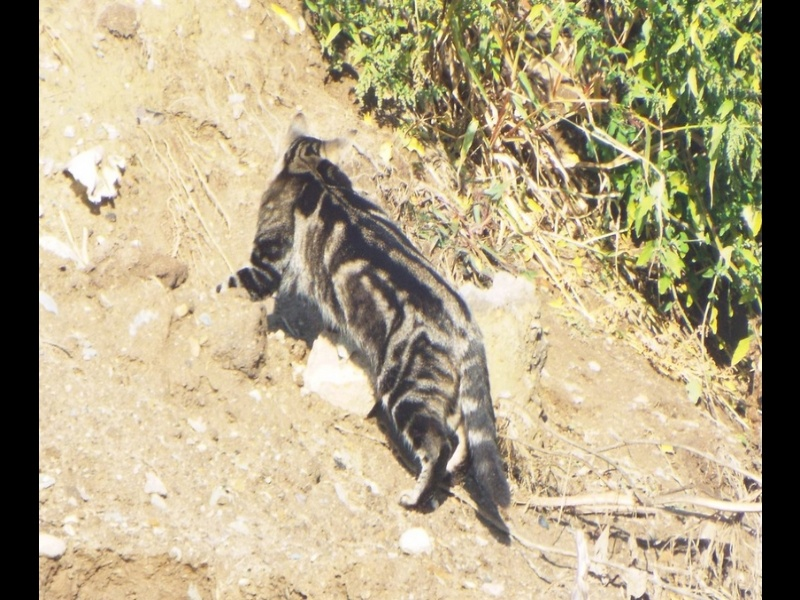cat: (219, 126, 516, 526)
